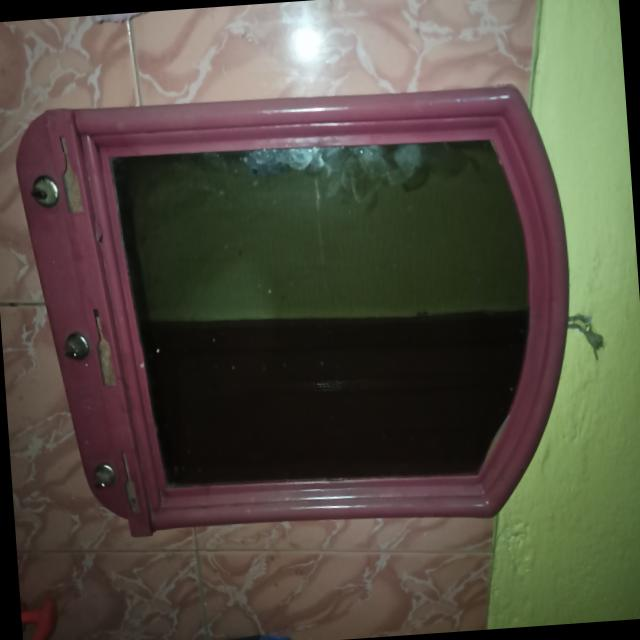glass: (98, 109, 570, 522)
